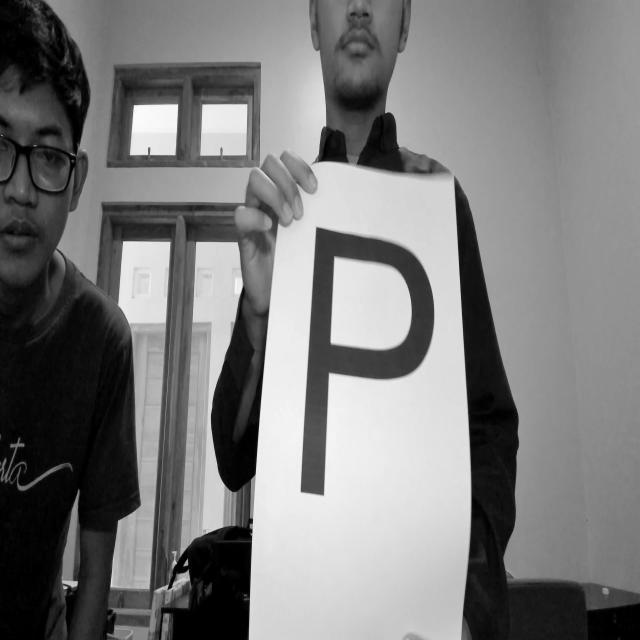p: (289, 216, 441, 541)
